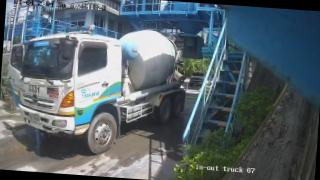cement_mixer_truck: (8, 25, 184, 153)
